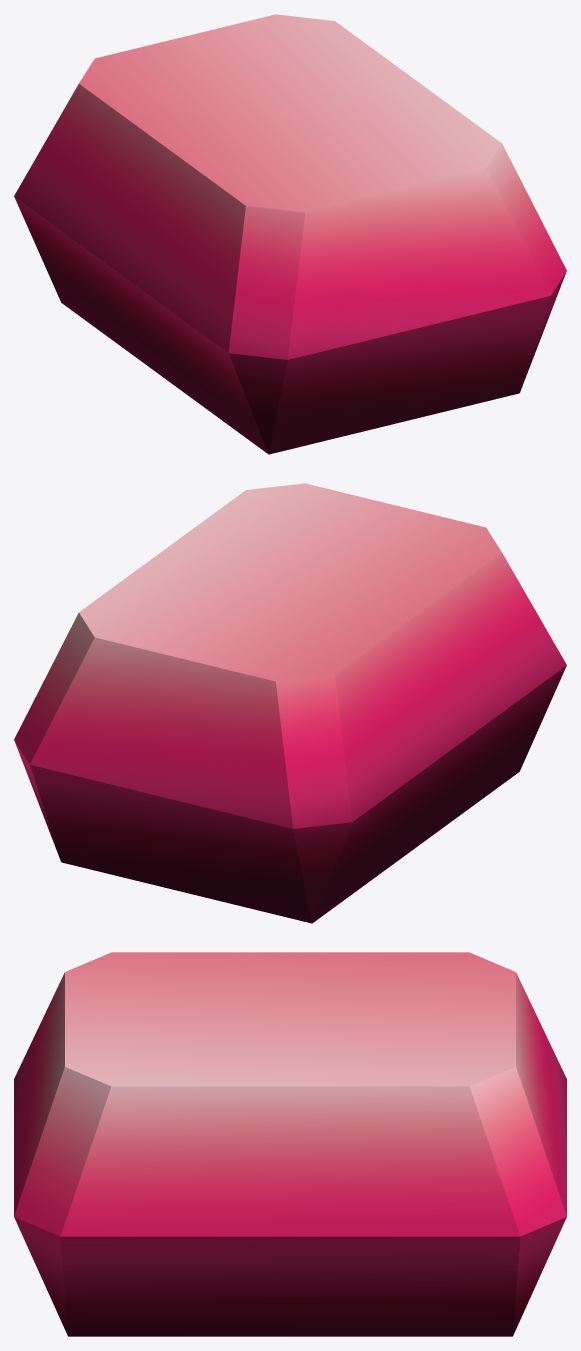
The model's file is Gem_RubyRed.fbx.
3 views of the same model, one above another, from view 1: azimuth 30°, elevation 25°; view 2: azimuth 150°, elevation 25°; view 3: azimuth 270°, elevation 25° (orthographic). The views are drawn at different scales.
Visible parts, largest first — view 1: Gem_RubyRed; view 2: Gem_RubyRed; view 3: Gem_RubyRed.
Boxes of the visible parts, x1,y1,x2,y2 form: Gem_RubyRed: (14,14,566,454); Gem_RubyRed: (14,483,566,923); Gem_RubyRed: (14,952,566,1336).
Size of the model in its own units: 6.2 by 4.11 by 8.18.
